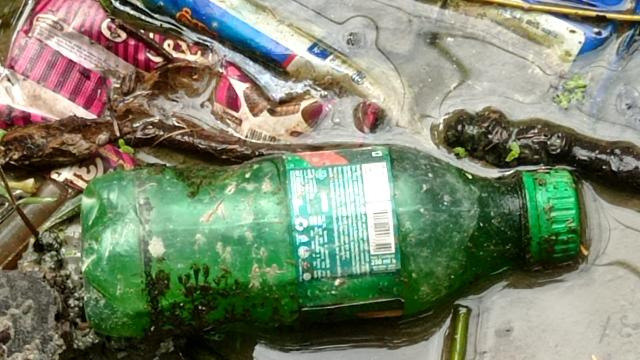bottle: (76, 151, 578, 331)
